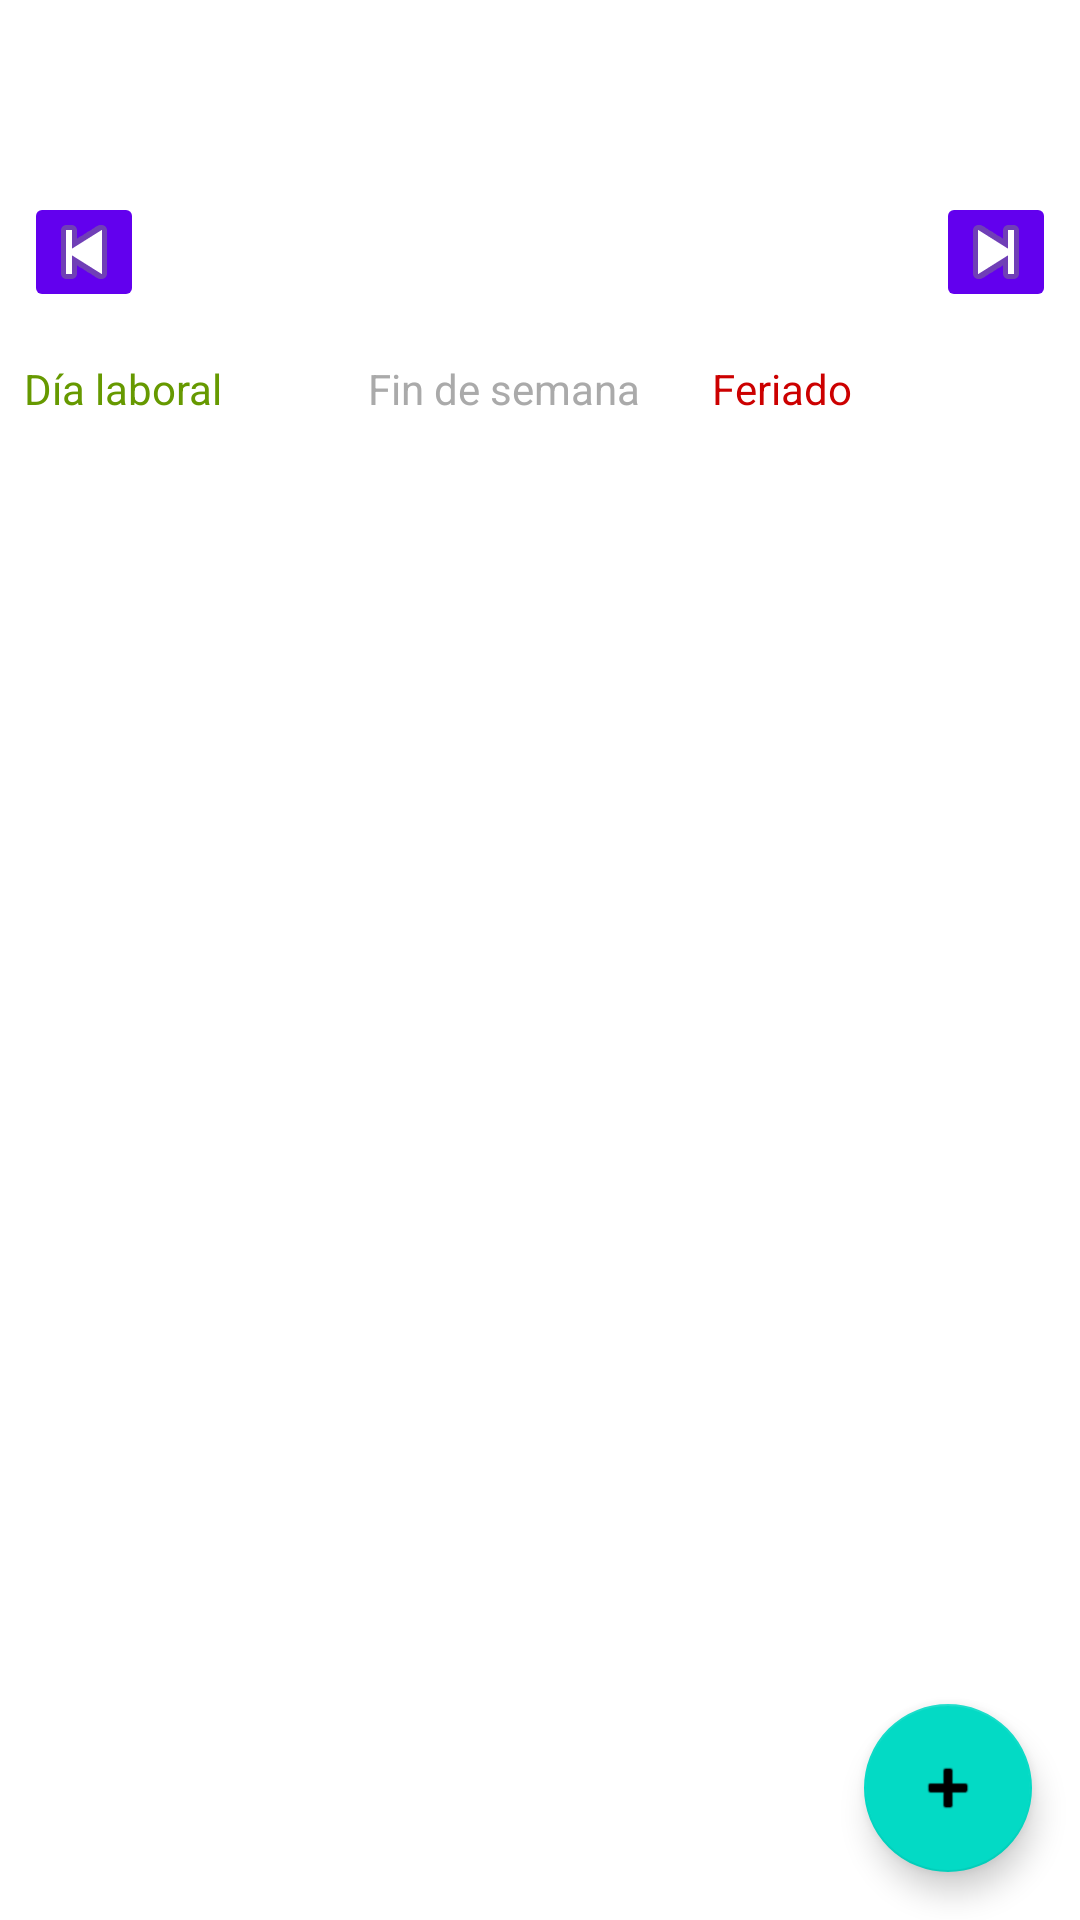

Icons on this 1080w x 1920h Android screen, each with the point to tap as (x=x, y=y):
Anterior: (x=84, y=252)
Añadir feriado: (x=948, y=1788)
Siguiente: (x=996, y=252)
